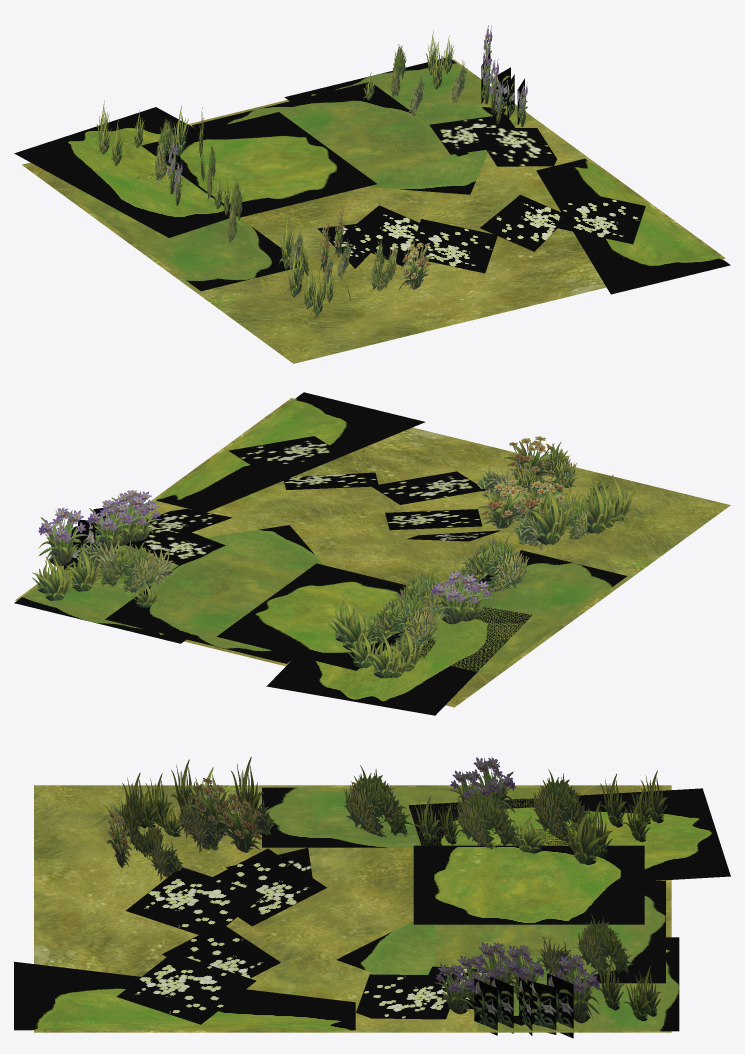
The model's file is K1_tongyicao1.FBX.
3 renders of one model, top to bottom at view 1: azimuth 30°, elevation 25°; view 2: azimuth 150°, elevation 25°; view 3: azimuth 270°, elevation 25°, orthographic. The views are drawn at different scales.
Visible parts, largest first — view 1: k1_weeds_caoping074, k1_weeds_caoping062, k1_weeds_caoping063, k1_weeds_caoping053, k1_weeds_caoping061, k1_weeds_caoping054, k1_weeds_caoping058, k1_weeds_caoping052, k1_zacao_2722, k1_zacao_2726, k1_zacao_2720, k1_zacao_2725 (+7 smaller); view 2: k1_weeds_caoping074, k1_weeds_caoping054, k1_weeds_caoping063, k1_weeds_caoping061, k1_weeds_caoping053, k1_weeds_caoping062, k1_weeds_caoping052, k1_weeds_caoping058, k1_zacao_2609, k1_zacao_2607, k1_zacao_2722, k1_zacao_2726 (+31 smaller); view 3: k1_weeds_caoping074, k1_weeds_caoping062, k1_weeds_caoping061, k1_weeds_caoping063, k1_weeds_caoping054, k1_weeds_caoping053, k1_zacao_2722, k1_zacao_2726, k1_weeds_caoping052, k1_zacao_2725, k1_zacao_2721, k1_weeds_caoping058 (+39 smaller).
Part boxes in pixels (<box>): k1_weeds_caoping074: <box>22,59,725,363</box>; k1_weeds_caoping062: <box>141,112,376,217</box>; k1_weeds_caoping063: <box>14,107,236,237</box>; k1_weeds_caoping053: <box>192,82,468,177</box>; k1_weeds_caoping061: <box>536,158,730,294</box>; k1_weeds_caoping054: <box>67,168,299,291</box>; k1_weeds_caoping058: <box>311,94,505,194</box>; k1_weeds_caoping052: <box>284,58,534,125</box>; k1_zacao_2722: <box>556,189,645,244</box>; k1_zacao_2726: <box>413,219,497,273</box>; k1_zacao_2720: <box>480,195,561,251</box>; k1_zacao_2725: <box>341,205,419,266</box>; k1_weeds_caoping074: <box>15,398,730,707</box>; k1_weeds_caoping054: <box>386,550,627,675</box>; k1_weeds_caoping063: <box>266,606,531,715</box>; k1_weeds_caoping061: <box>156,392,425,512</box>; k1_weeds_caoping053: <box>105,549,305,663</box>; k1_weeds_caoping062: <box>216,563,405,670</box>; k1_weeds_caoping052: <box>14,545,186,643</box>; k1_weeds_caoping058: <box>115,525,323,634</box>; k1_zacao_2609: <box>360,590,439,648</box>; k1_zacao_2607: <box>457,534,529,592</box>; k1_zacao_2722: <box>228,436,343,469</box>; k1_zacao_2726: <box>372,471,485,504</box>; k1_weeds_caoping074: <box>34,785,671,1032</box>; k1_weeds_caoping062: <box>413,845,644,924</box>; k1_weeds_caoping061: <box>14,961,355,1030</box>; k1_weeds_caoping063: <box>408,788,730,880</box>; k1_weeds_caoping054: <box>262,787,575,847</box>; k1_weeds_caoping053: <box>435,881,665,983</box>; k1_zacao_2722: <box>116,953,256,1024</box>; k1_zacao_2726: <box>125,867,265,934</box>; k1_weeds_caoping052: <box>477,937,679,1031</box>; k1_zacao_2725: <box>213,848,326,926</box>; k1_zacao_2721: <box>356,974,459,1019</box>; k1_weeds_caoping058: <box>336,921,669,1025</box>.
Size of the model in its own units: 934 by 159 by 1116.
